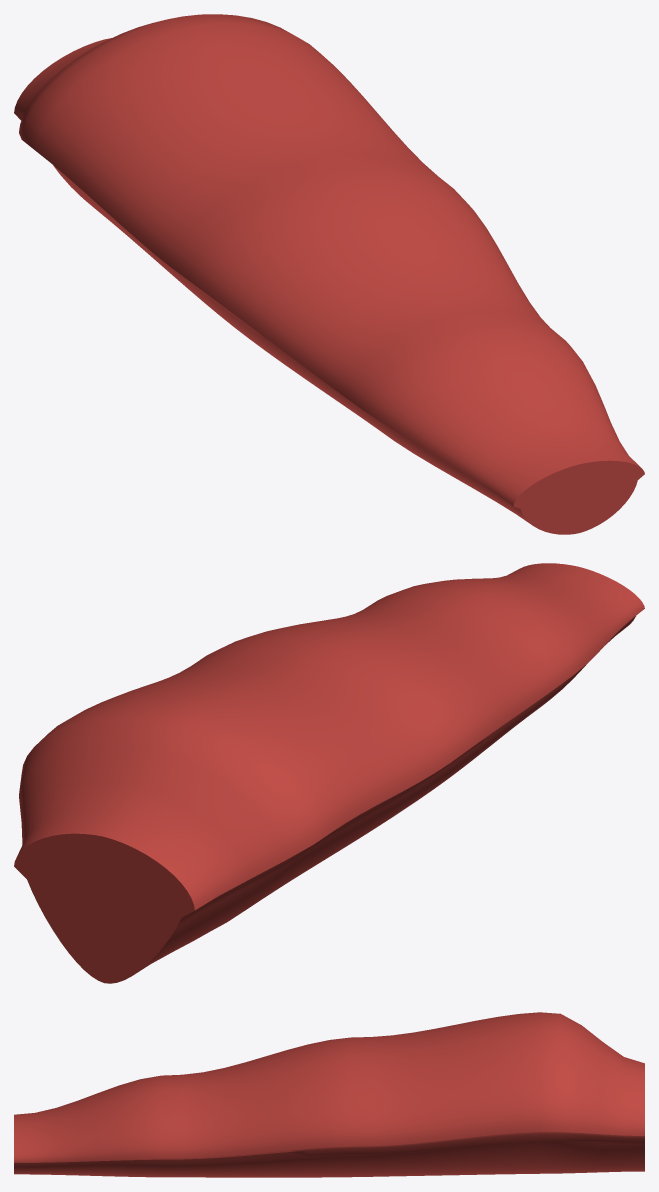
File: adv.glb
The picture shows the model from 3 angles, top to bottom: view 1: azimuth 30°, elevation 25°; view 2: azimuth 150°, elevation 25°; view 3: azimuth 270°, elevation 25°; orthographic projection. The views are drawn at different scales.
Parts seen in each view (by area): view 1: lod0; view 2: lod0; view 3: lod0.
Boxes of the visible parts, box(x1,y1,x2,y2) form: lod0: box(14, 14, 644, 534); lod0: box(14, 563, 644, 983); lod0: box(14, 1012, 644, 1177).
Size of what is drawn, in the model's own units: 0.3598 by 0.2496 by 1.
